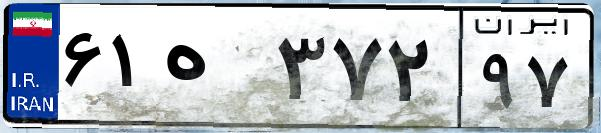1: (110, 28, 158, 98)
2: (385, 28, 445, 110)
3: (270, 28, 330, 110)
6: (57, 26, 110, 100)
7: (330, 28, 385, 110), (525, 38, 570, 115)
9: (475, 38, 525, 113)
ه: (158, 20, 270, 120)
